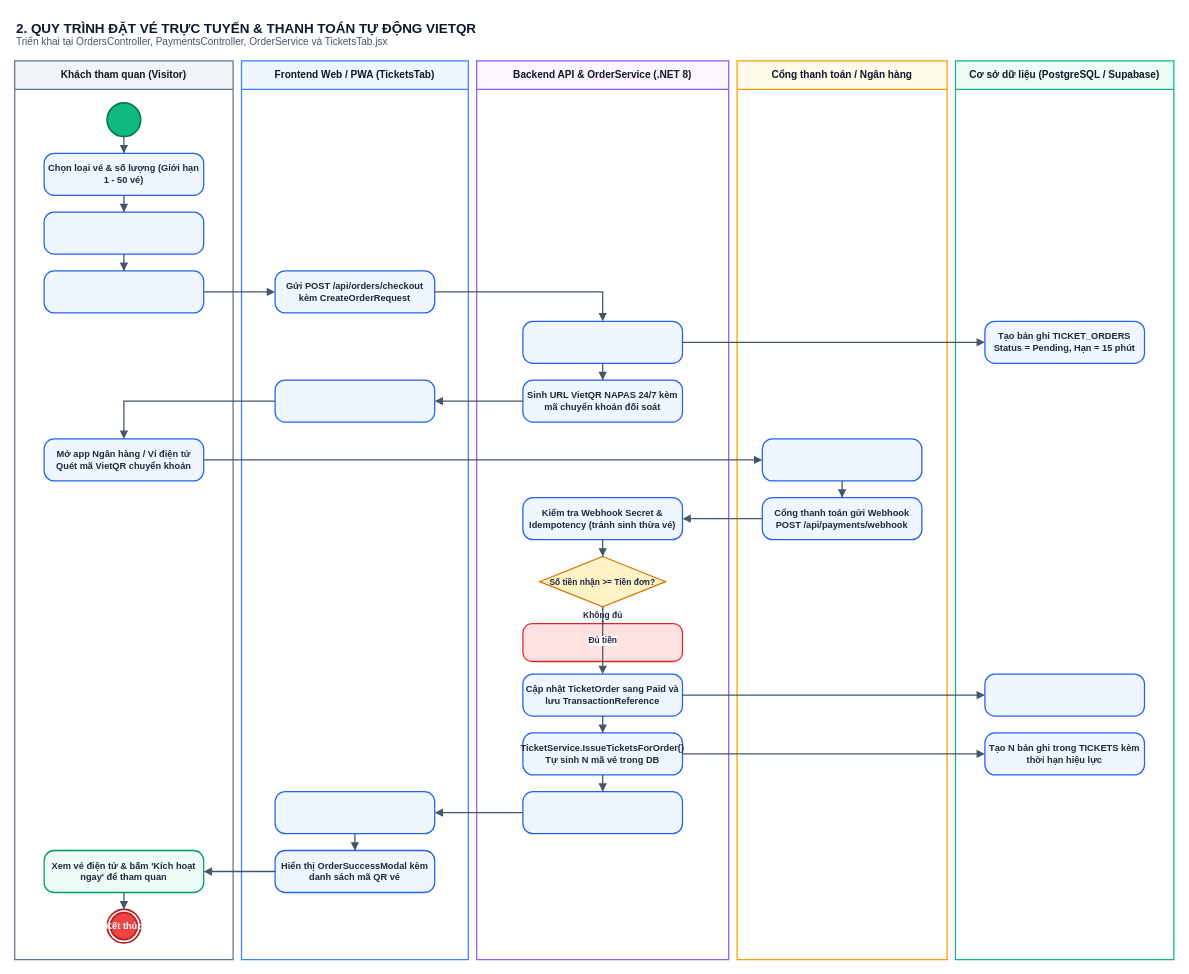
This 1189x974 diagram has some shape labels left out. Each missing label, with the centre of its shape:
"Bấm 'Tiến hành đặt vé'" goes at pixel 123 291.
"Bắt đầu" goes at pixel 123 119.
"Cập nhật đơn hàng Failed và ghi log cảnh báo" goes at pixel 602 642.
"Khách hàng hoàn tất chuyển tiền thành công" goes at pixel 841 459.
"Lưu trạng thái Paid vào bảng TICKET_ORDERS" goes at pixel 1064 694.
"Lấy giá vé gốc từ DB, tính tổng tiền sinh mã đối soát duy nhất (ZG-...)" goes at pixel 602 342.
"Mở Modal mã VietQR & Khởi chạy Timer đếm ngược 15p" goes at pixel 354 400.
"Polling GET /api/orders/{code} phát hiện đơn hàng đã Paid" goes at pixel 354 812.
"SmtpEmailService: Gửi email xác nhận kèm mã QR vé" goes at pixel 602 812.
"Điền thông tin người mua: Họ tên, Email, Số điện thoại" goes at pixel 123 232.
